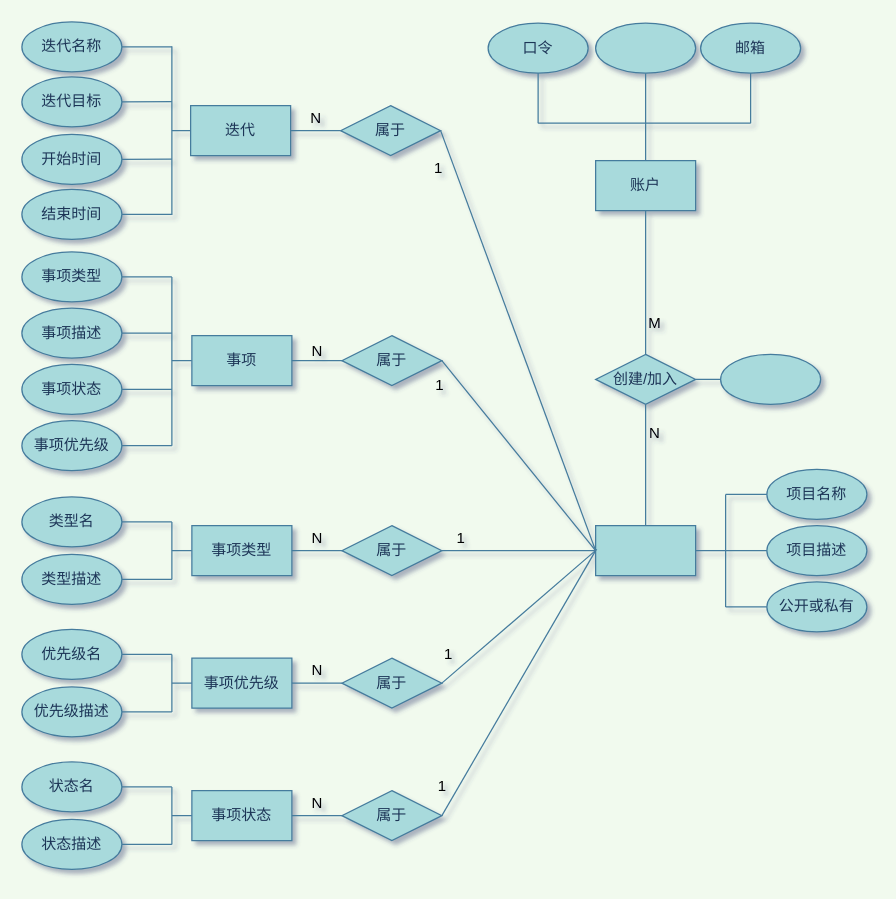
Some shapes in this 896 by 899 pixel diagram are drawn without their labels. The shapes that lost their labels are listed below. From the top down, each one's box as (x1, y1, x2, y2) in pixels, then its label:
(594, 22, 696, 73): 账户名
(719, 353, 821, 404): 角色
(594, 524, 696, 576): 项目
